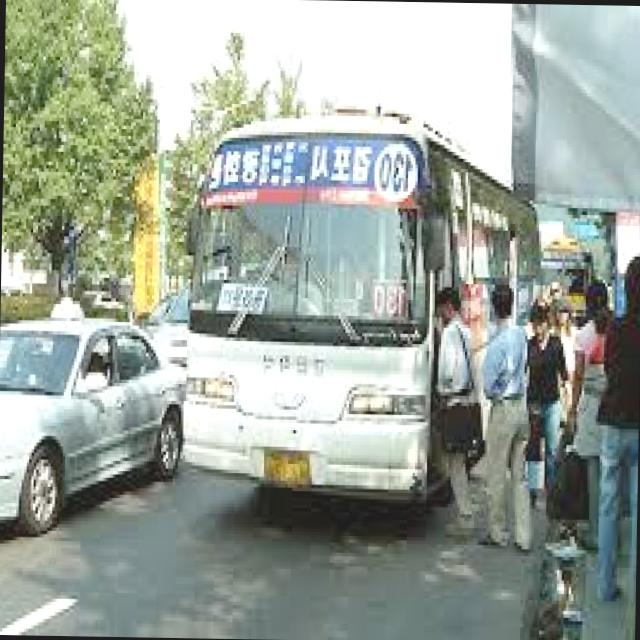bus-number: (377, 151, 414, 194)
